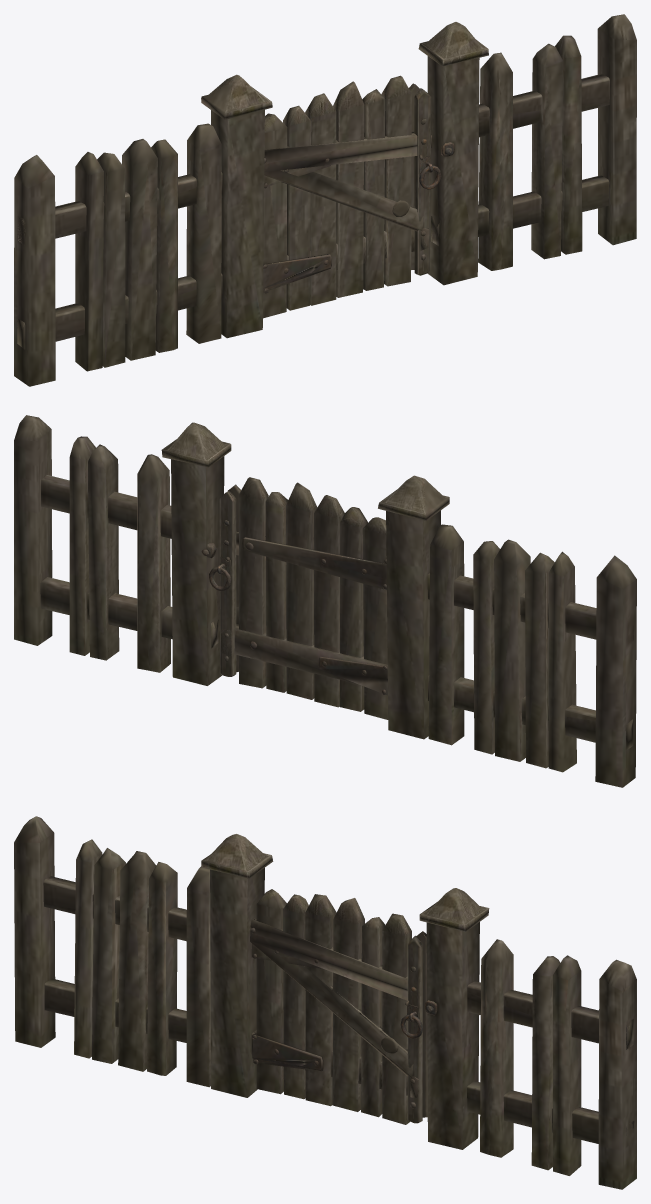
File: prop_fence_gate.glb
The picture shows the model from 3 angles, top to bottom: view 1: azimuth 30°, elevation 25°; view 2: azimuth 150°, elevation 25°; view 3: azimuth 330°, elevation 25°; orthographic projection.
Visible parts, largest first — view 1: PropFenceGateMesh; view 2: PropFenceGateMesh; view 3: PropFenceGateMesh.
Boxes of the visible parts, x1,y1,x2,y2 form: PropFenceGateMesh: (14,14,636,386); PropFenceGateMesh: (14,415,636,787); PropFenceGateMesh: (14,816,636,1189).
Bounding box in the file's own units: 2 × 0.8027 × 0.1348.
Materials: 1 (1 with a texture image).
